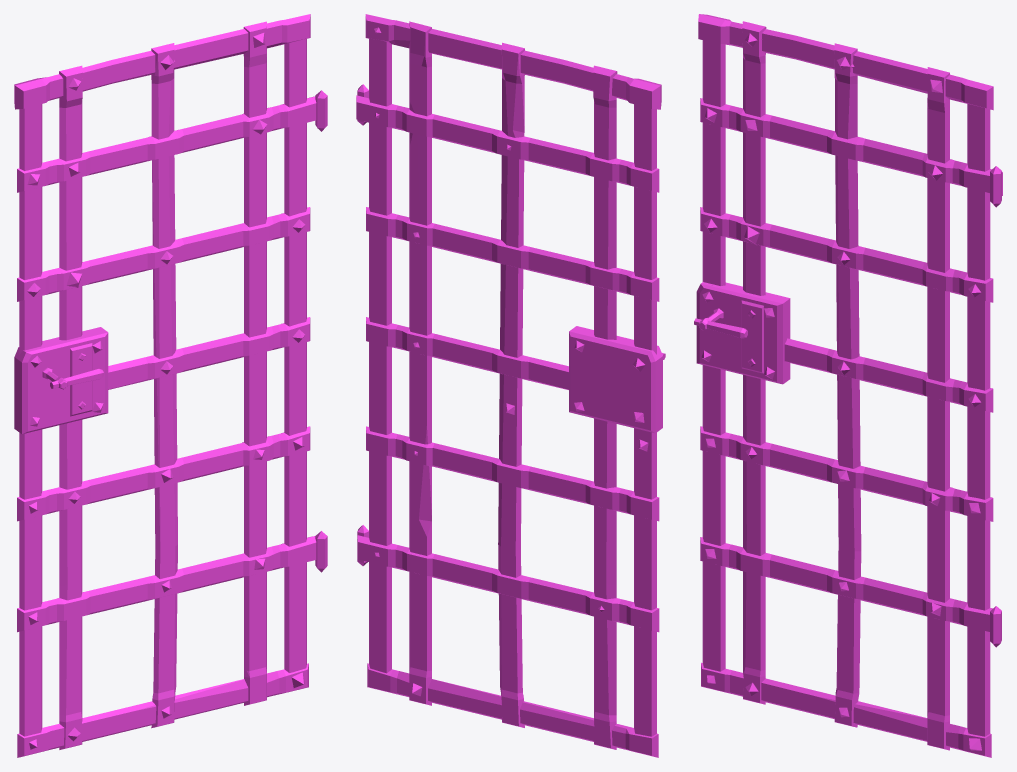
File: SM_Door_Bars_A_Regular_Fantasy.fbx
3 renders of one model, left to right at view 1: azimuth 30°, elevation 25°; view 2: azimuth 150°, elevation 25°; view 3: azimuth 330°, elevation 25°, orthographic.
Parts seen in each view (by area): view 1: SM_Door_Bars_A_Regular_Fantasy; view 2: SM_Door_Bars_A_Regular_Fantasy; view 3: SM_Door_Bars_A_Regular_Fantasy.
Part boxes in pixels (bbox=[...]): SM_Door_Bars_A_Regular_Fantasy: bbox=[14, 14, 327, 757]; SM_Door_Bars_A_Regular_Fantasy: bbox=[356, 14, 665, 757]; SM_Door_Bars_A_Regular_Fantasy: bbox=[694, 14, 1002, 757].
Size of the model in its own units: 0.9707 by 2.05 by 0.1673.
